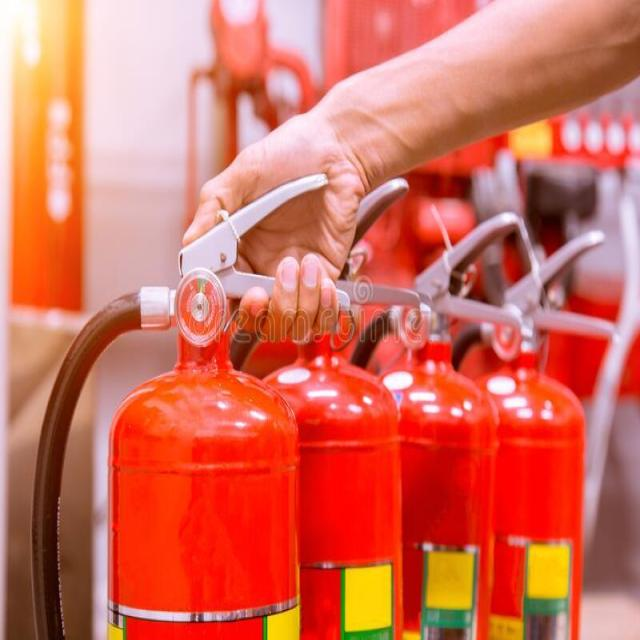fire_extinguisher: (24, 167, 352, 639), (215, 174, 425, 639), (348, 206, 532, 639), (444, 227, 623, 639)
